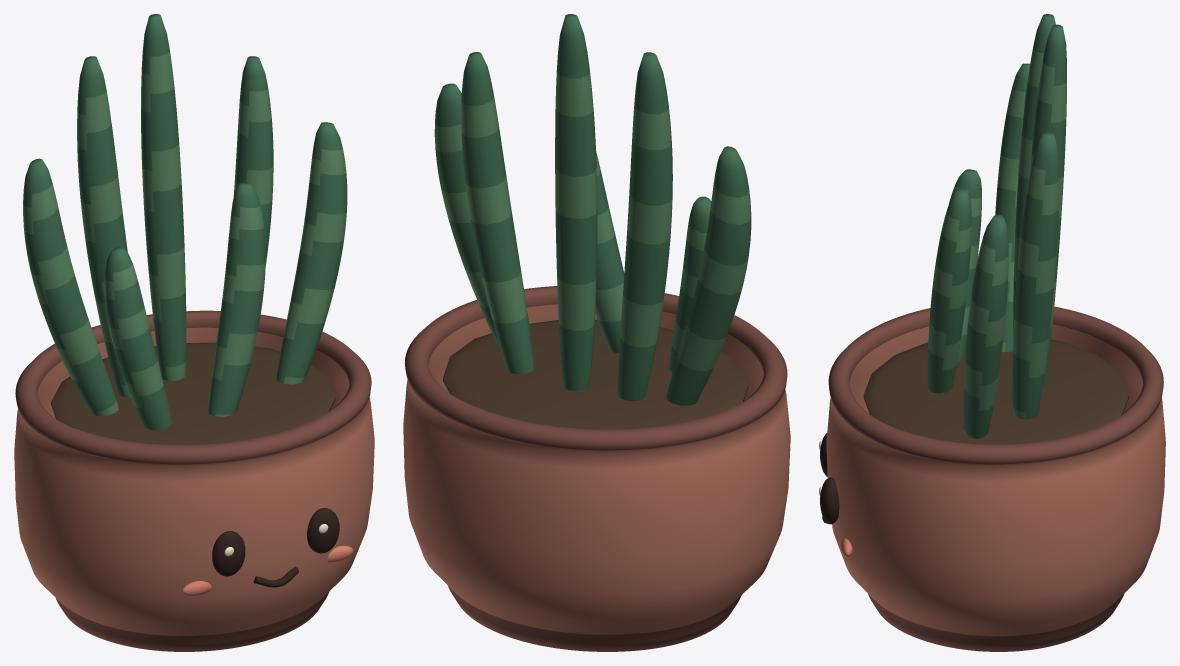
Rendered from cylindrical-snake-v1.glb.
3 views of the same model, side by side, from view 1: azimuth 30°, elevation 25°; view 2: azimuth 150°, elevation 25°; view 3: azimuth 270°, elevation 25° (orthographic). The views are drawn at different scales.
Visible parts, largest first — view 1: Wheel-thrown ceramic, Soil, Round upright spear.002, Round upright spear.004, Round upright spear, Round upright spear.001, Round upright spear.005, Round upright spear.006, Round upright spear.003, Eye, Eye.001; view 2: Wheel-thrown ceramic, Soil, Round upright spear.002, Round upright spear.001, Round upright spear.003, Round upright spear, Round upright spear.004, Round upright spear.005, Round upright spear.006; view 3: Wheel-thrown ceramic, Soil, Round upright spear.003, Round upright spear.004, Round upright spear.005, Round upright spear.002, Round upright spear, Round upright spear.001, Round upright spear.006, Eye.001.
Boxes of the visible parts, x1,y1,x2,y2 form: Wheel-thrown ceramic: [14, 310, 374, 651]; Soil: [51, 342, 335, 444]; Round upright spear.002: [141, 14, 186, 380]; Round upright spear.004: [276, 122, 347, 384]; Round upright spear: [23, 158, 118, 415]; Round upright spear.001: [77, 56, 130, 396]; Round upright spear.005: [208, 182, 265, 416]; Round upright spear.006: [104, 247, 171, 430]; Round upright spear.003: [233, 56, 273, 265]; Eye: [212, 531, 245, 576]; Eye.001: [307, 508, 339, 553]; Wheel-thrown ceramic: [403, 286, 790, 651]; Soil: [443, 320, 748, 429]; Round upright spear.002: [555, 14, 597, 391]; Round upright spear.001: [618, 52, 672, 401]; Round upright spear.003: [461, 52, 534, 374]; Round upright spear: [666, 146, 751, 405]; Round upright spear.004: [434, 83, 499, 344]; Round upright spear.005: [595, 151, 624, 353]; Round upright spear.006: [669, 196, 711, 372]; Wheel-thrown ceramic: [826, 306, 1165, 651]; Soil: [863, 339, 1128, 444]; Round upright spear.003: [1012, 132, 1059, 419]; Round upright spear.004: [963, 214, 1008, 438]; Round upright spear.005: [927, 188, 971, 393]; Round upright spear.002: [1030, 24, 1066, 388]; Round upright spear: [995, 63, 1029, 352]; Round upright spear.001: [1013, 14, 1055, 334]; Round upright spear.006: [949, 169, 981, 362]; Eye.001: [820, 477, 839, 524].
Bounding box in the file's own units: 1.62 × 2.76 × 1.53.
